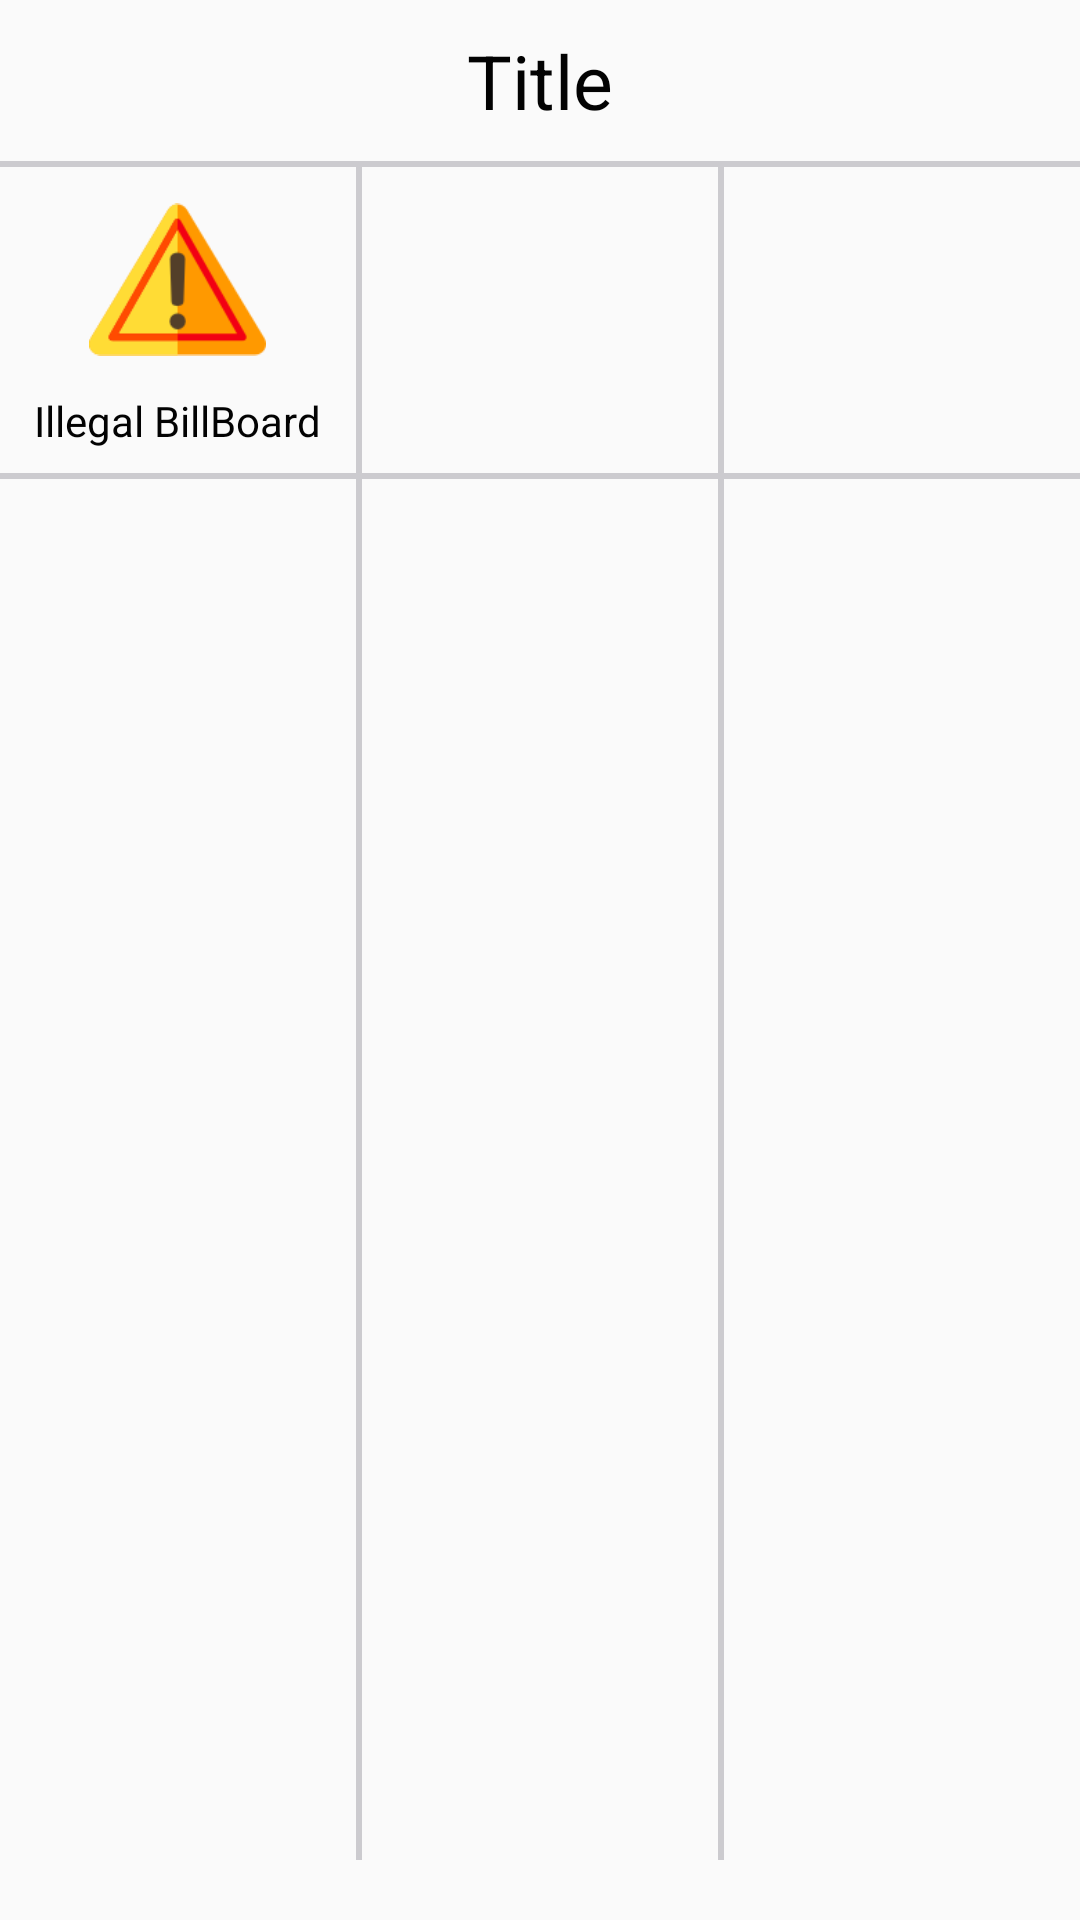

Icons on this 1080 × 1920 Android screen, each with the point to tap as [x,y]:
hazard: [177,279]
